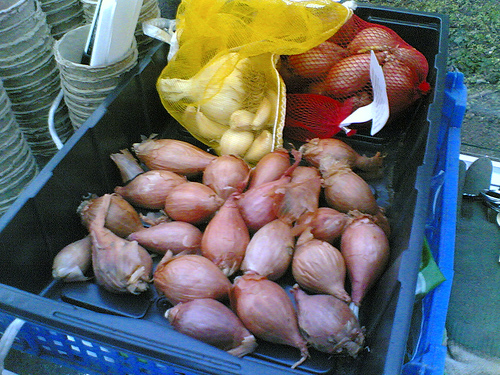onion: (288, 282, 368, 361), (341, 215, 389, 315), (148, 252, 235, 301), (289, 239, 353, 301), (164, 181, 225, 222)
